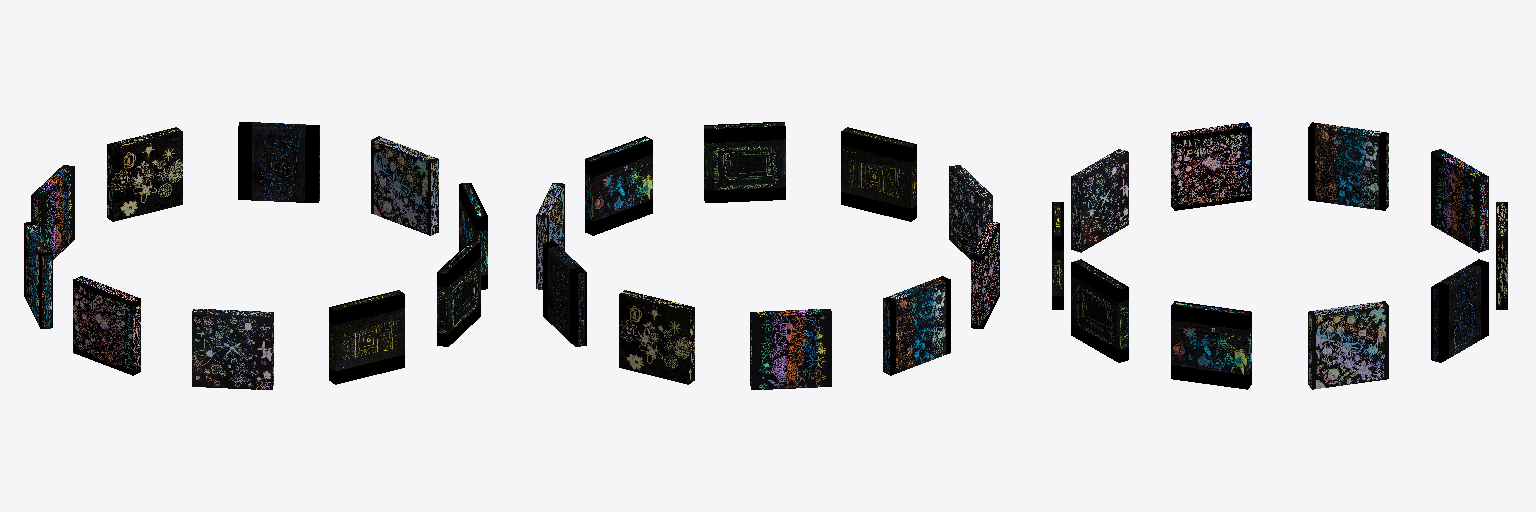
3 renders of one model, left to right at view 1: azimuth 30°, elevation 25°; view 2: azimuth 150°, elevation 25°; view 3: azimuth 270°, elevation 25°, orthographic.
Parts seen in each view (by area): view 1: Cube_1, Cube_6, Cube_0, Cube_5, Cube_2, Cube_7, Cube_4, Cube_9, Cube_8, Cube_3; view 2: Cube_4, Cube_9, Cube_0, Cube_5, Cube_3, Cube_8, Cube_1, Cube_6, Cube_7, Cube_2; view 3: Cube_2, Cube_3, Cube_7, Cube_8, Cube_1, Cube_4, Cube_6, Cube_9, Cube_0, Cube_5.
Part boxes in pixels (x1,y1,x2,y2): Cube_1: (238,122,319,202); Cube_6: (192,309,273,389); Cube_0: (107,127,182,221); Cube_5: (329,290,404,384); Cube_2: (371,136,438,235); Cube_7: (73,276,140,375); Cube_4: (437,241,480,346); Cube_9: (31,165,74,259); Cube_8: (24,222,52,328); Cube_3: (459,183,487,289); Cube_4: (704,122,785,202); Cube_9: (750,309,831,389); Cube_0: (619,290,694,384); Cube_5: (841,127,916,221); Cube_3: (585,136,652,235); Cube_8: (883,276,950,375); Cube_1: (543,241,586,346); Cube_6: (949,165,992,259); Cube_7: (971,222,999,328); Cube_2: (536,183,564,289); Cube_2: (1308,301,1388,389); Cube_3: (1171,301,1251,389); Cube_7: (1171,122,1251,210); Cube_8: (1308,122,1388,210); Cube_1: (1431,259,1488,362); Cube_4: (1071,259,1128,362); Cube_6: (1071,149,1128,252); Cube_9: (1431,149,1488,252); Cube_0: (1496,202,1507,309); Cube_5: (1052,202,1063,309).
Bounding box in the file's own units: 1136 × 200 × 1130.
10 materials, 10 textured.